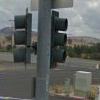Traffic light: (8, 2, 74, 71)
